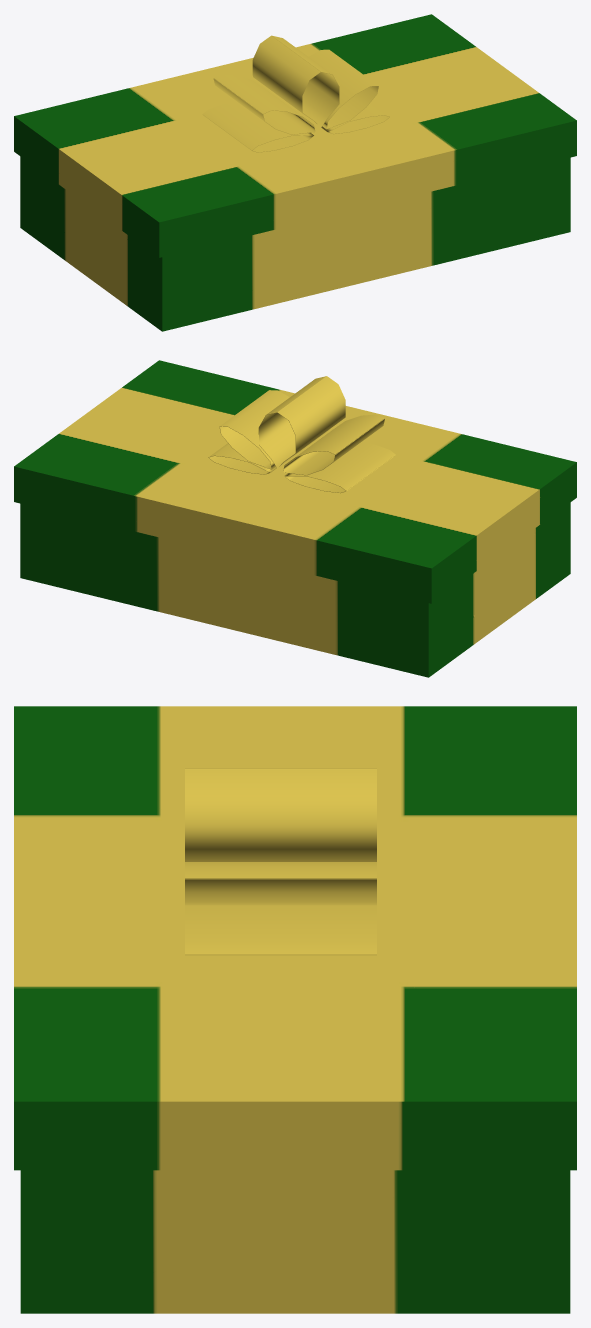
File: present_long_plain_ver2.fbx
3 renders of one model, top to bottom at view 1: azimuth 30°, elevation 25°; view 2: azimuth 150°, elevation 25°; view 3: azimuth 270°, elevation 25°, orthographic. The views are drawn at different scales.
Visible parts, largest first — view 1: Top, Box; view 2: Top, Box; view 3: Top, Box.
Boxes of the visible parts, <box> form: Top: <box>14,14,576,257</box>; Box: <box>20,156,570,331</box>; Top: <box>14,360,576,603</box>; Box: <box>20,502,570,677</box>; Top: <box>14,706,576,1170</box>; Box: <box>20,1170,570,1313</box>.
Size of the model in its own units: 17.01 by 6.99 by 10.24.
